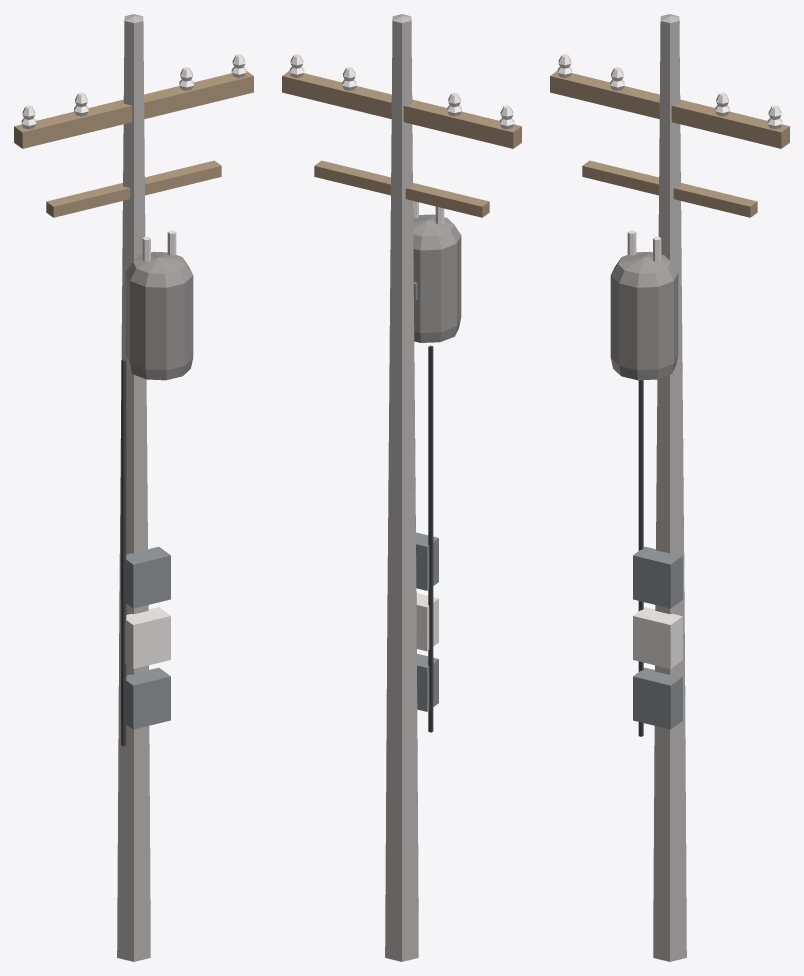
The model's file is fv_pole.glb.
3 views of the same model, side by side, from view 1: azimuth 30°, elevation 25°; view 2: azimuth 150°, elevation 25°; view 3: azimuth 330°, elevation 25° (orthographic).
Parts seen in each view (by area): view 1: fv_pole; view 2: fv_pole; view 3: fv_pole.
Boxes of the visible parts, x1,y1,x2,y2 form: fv_pole: [14, 14, 253, 961]; fv_pole: [282, 14, 521, 961]; fv_pole: [550, 14, 789, 961].
Size of the model in its own units: 2.2 by 8.52 by 0.8248.
